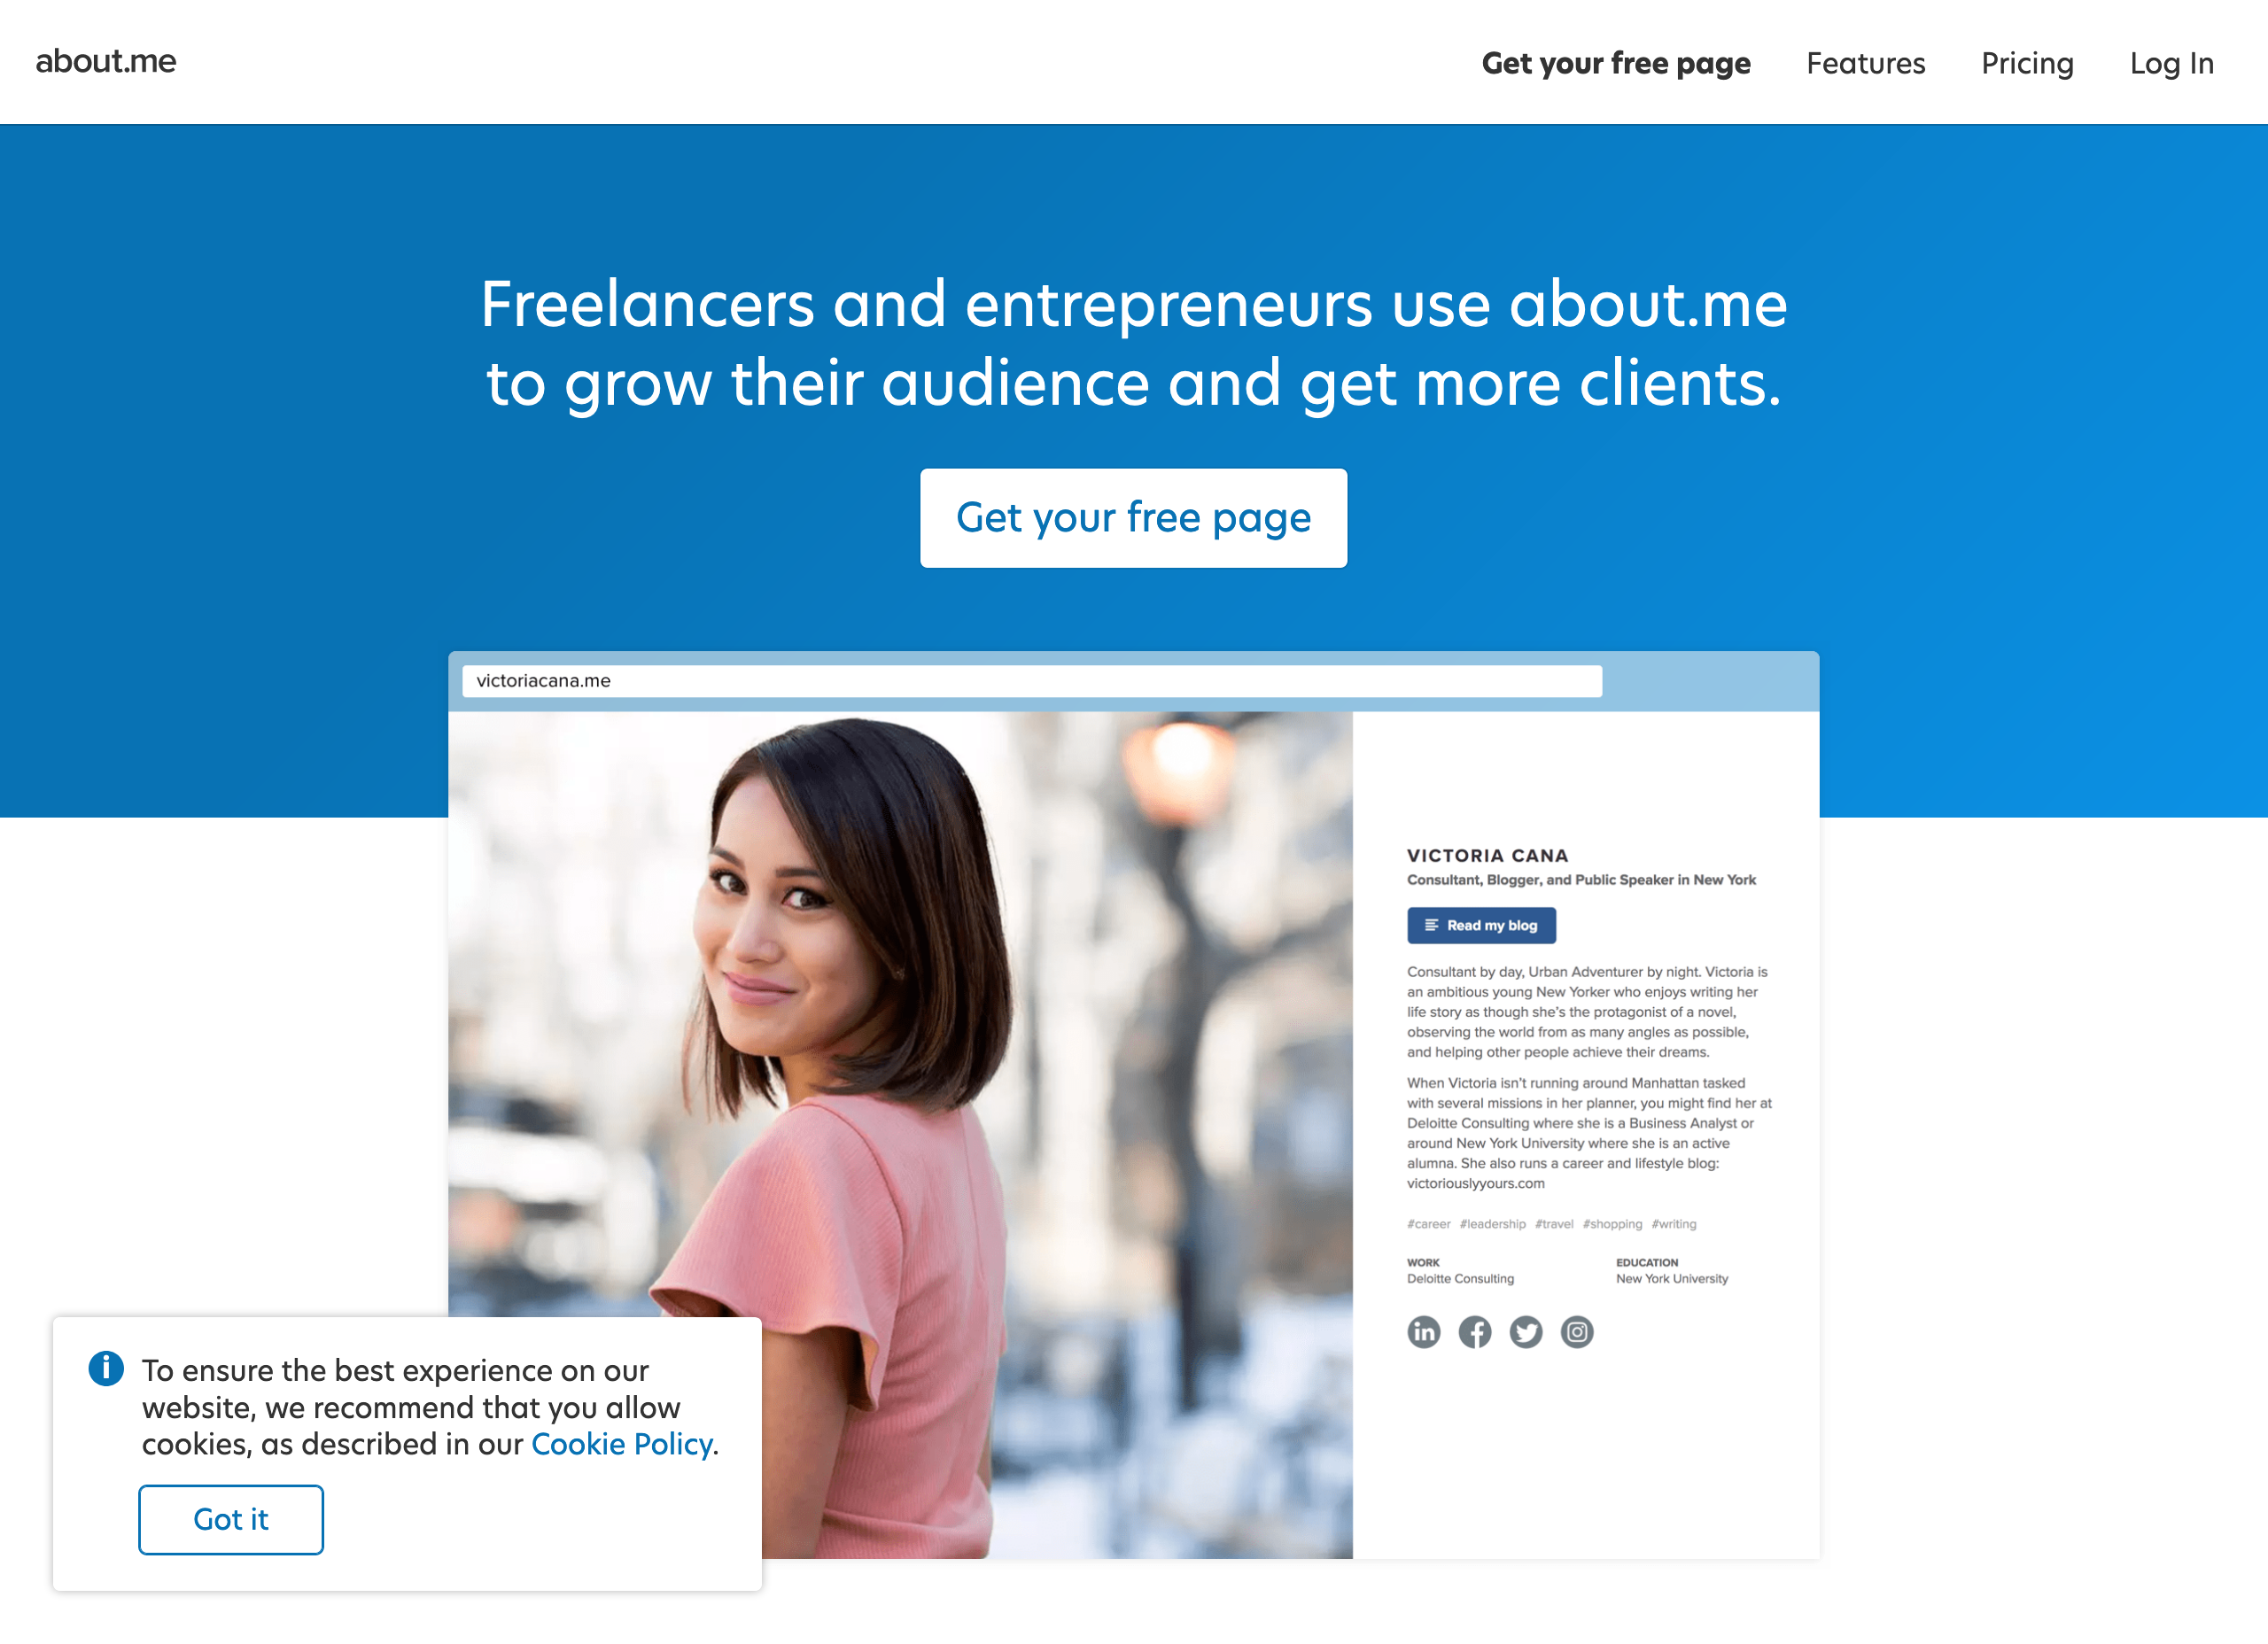Login: (2118, 33, 2235, 92)
